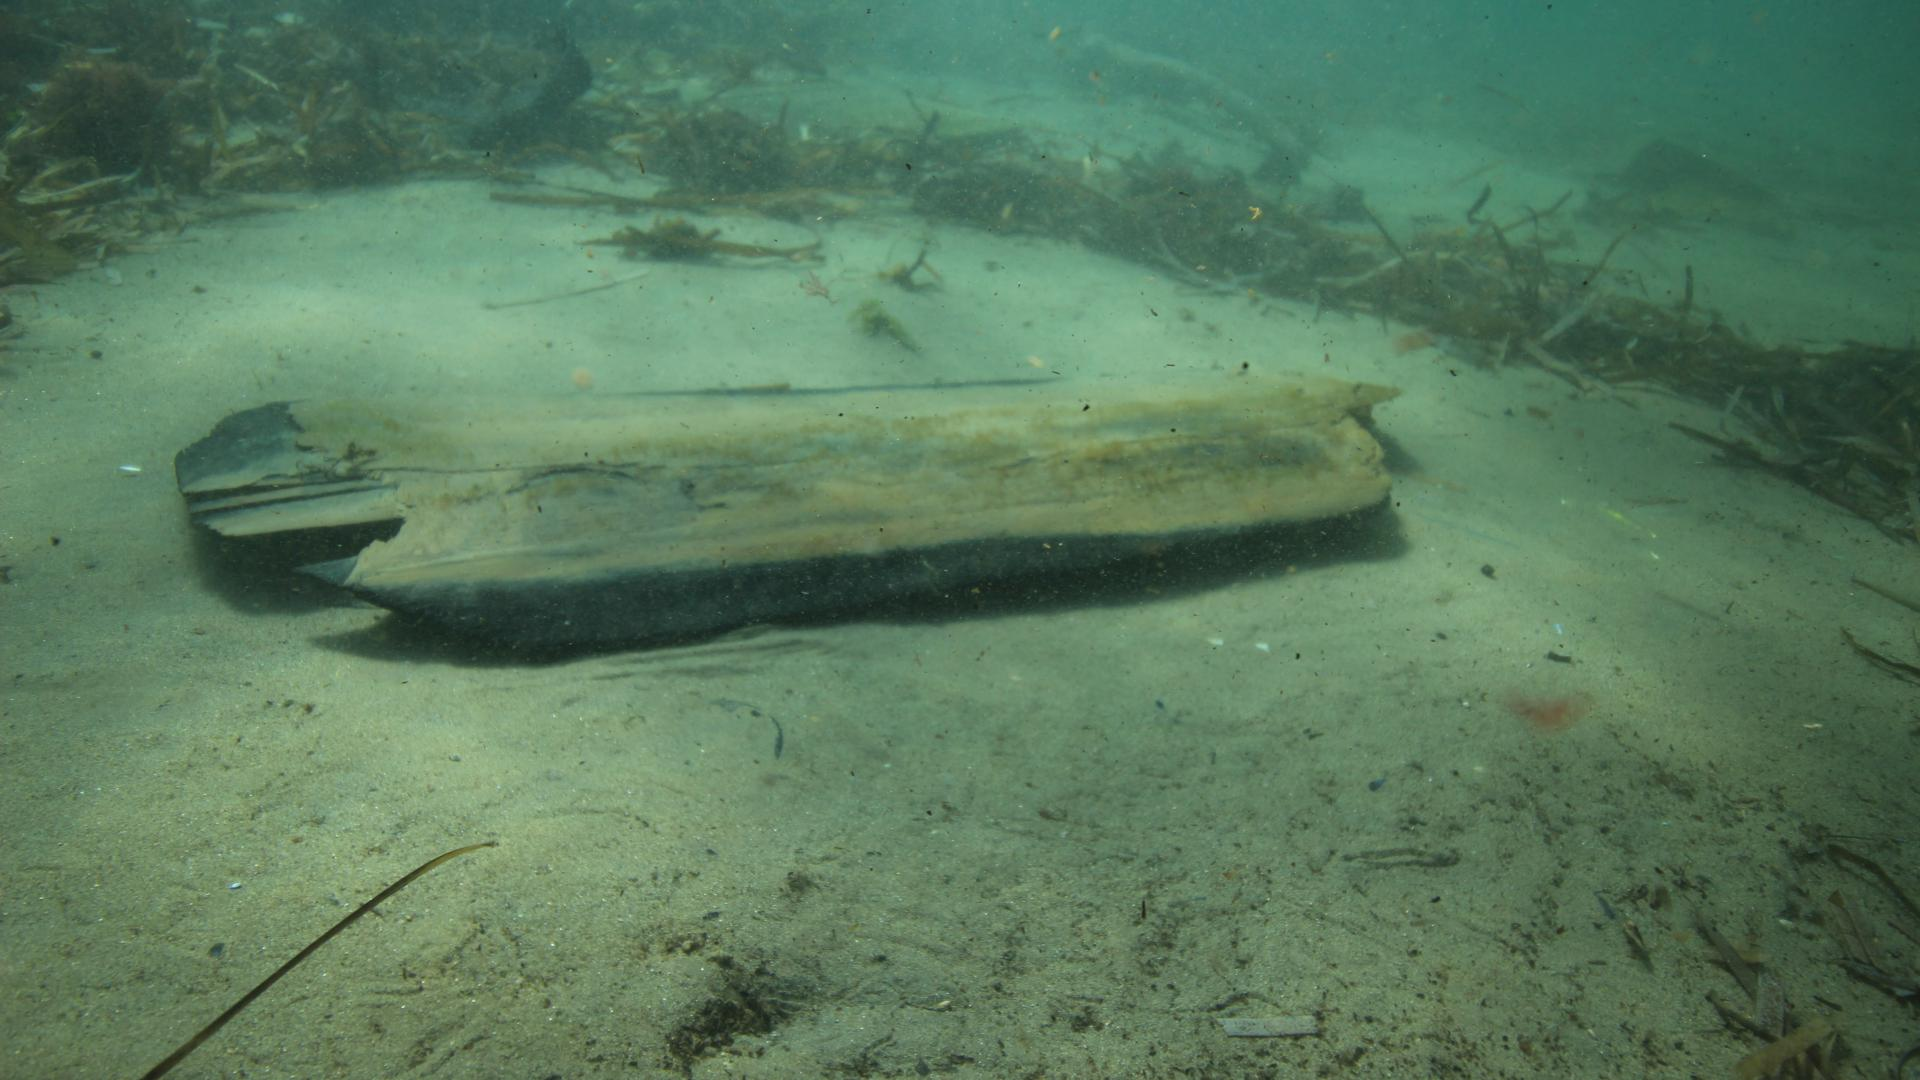wood: (175, 369, 1400, 637)
